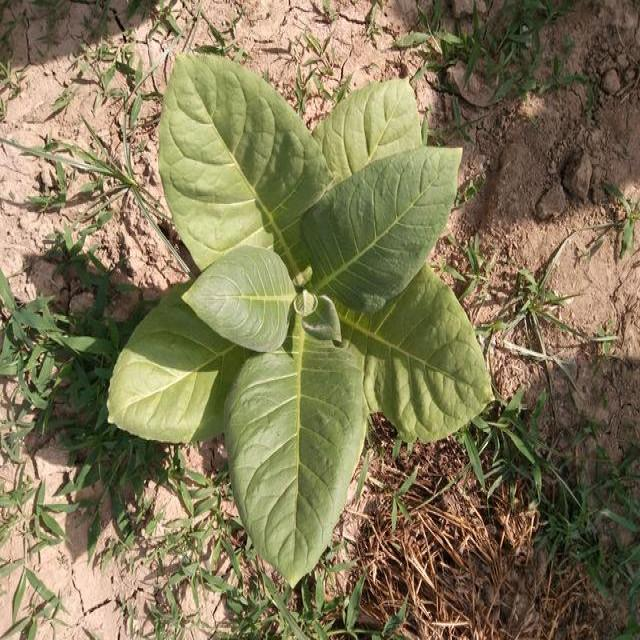crop: (109, 36, 502, 594)
